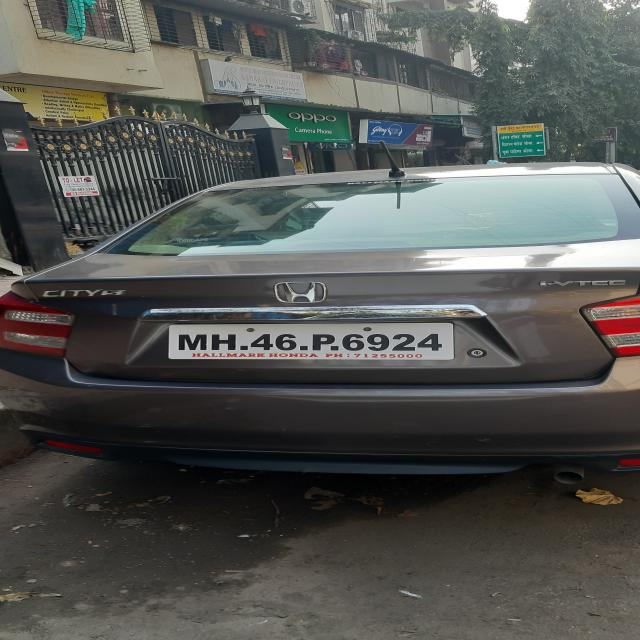Number-Plate: (163, 324, 447, 360)
